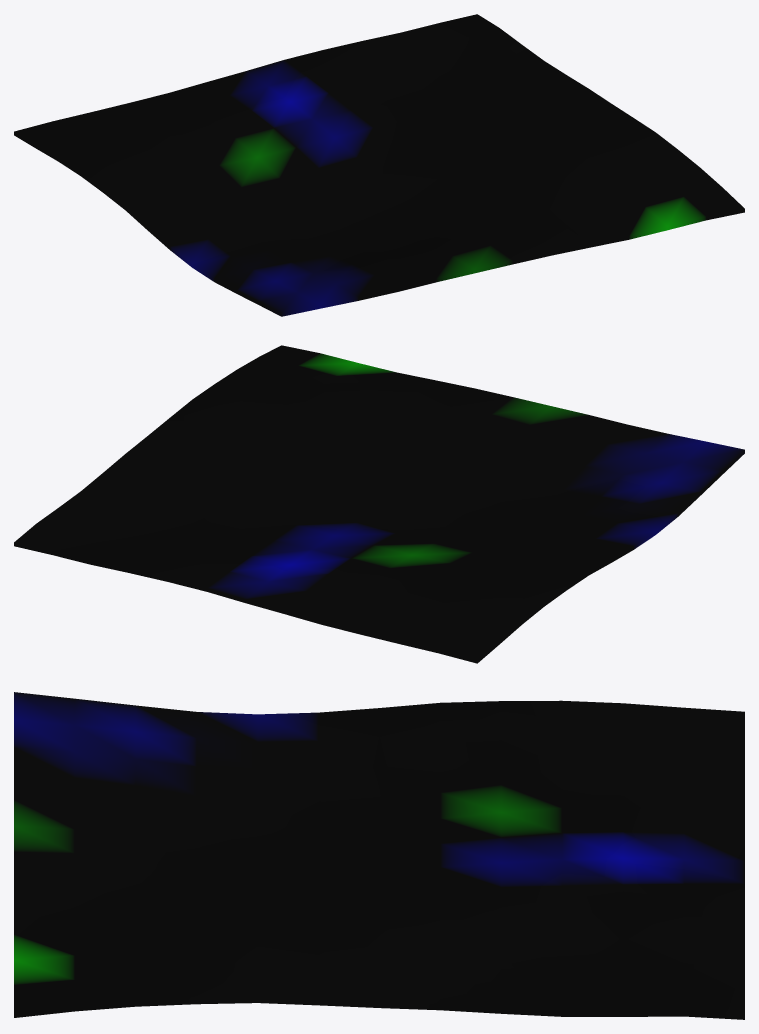
The model's file is coast_9_1.glb.
The picture shows the model from 3 angles, top to bottom: view 1: azimuth 30°, elevation 25°; view 2: azimuth 150°, elevation 25°; view 3: azimuth 270°, elevation 25°; orthographic projection. The views are drawn at different scales.
Visible parts, largest first — view 1: terrain; view 2: terrain; view 3: terrain.
Boxes of the visible parts, bbox=[...] form: terrain: bbox=[14, 14, 744, 316]; terrain: bbox=[14, 345, 744, 663]; terrain: bbox=[14, 692, 744, 1019].
Size of the model in its own units: 192 by 10.68 by 192.
